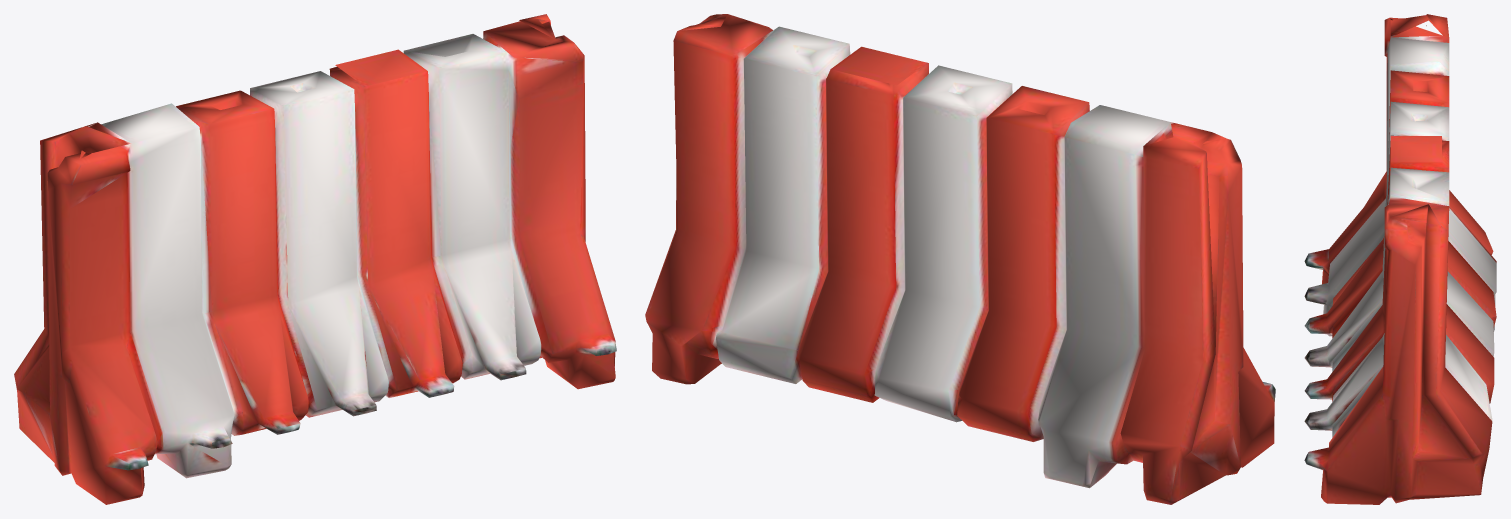
Rendered from barrier.glb.
The picture shows the model from 3 angles, left to right: view 1: azimuth 30°, elevation 25°; view 2: azimuth 150°, elevation 25°; view 3: azimuth 270°, elevation 25°; orthographic projection. The views are drawn at different scales.
Visible parts, largest first — view 1: tripo_node_98a65c89-85ec-4ed1-a824-8a0ec01f08ce; view 2: tripo_node_98a65c89-85ec-4ed1-a824-8a0ec01f08ce; view 3: tripo_node_98a65c89-85ec-4ed1-a824-8a0ec01f08ce.
Part boxes in pixels (box(x1,y1,x2,y2)): tripo_node_98a65c89-85ec-4ed1-a824-8a0ec01f08ce: box(14, 14, 616, 504); tripo_node_98a65c89-85ec-4ed1-a824-8a0ec01f08ce: box(645, 14, 1275, 504); tripo_node_98a65c89-85ec-4ed1-a824-8a0ec01f08ce: box(1304, 14, 1496, 504).
Bounding box in the file's own units: 1.33 × 0.7974 × 0.4873.
1 material, 1 textured.
